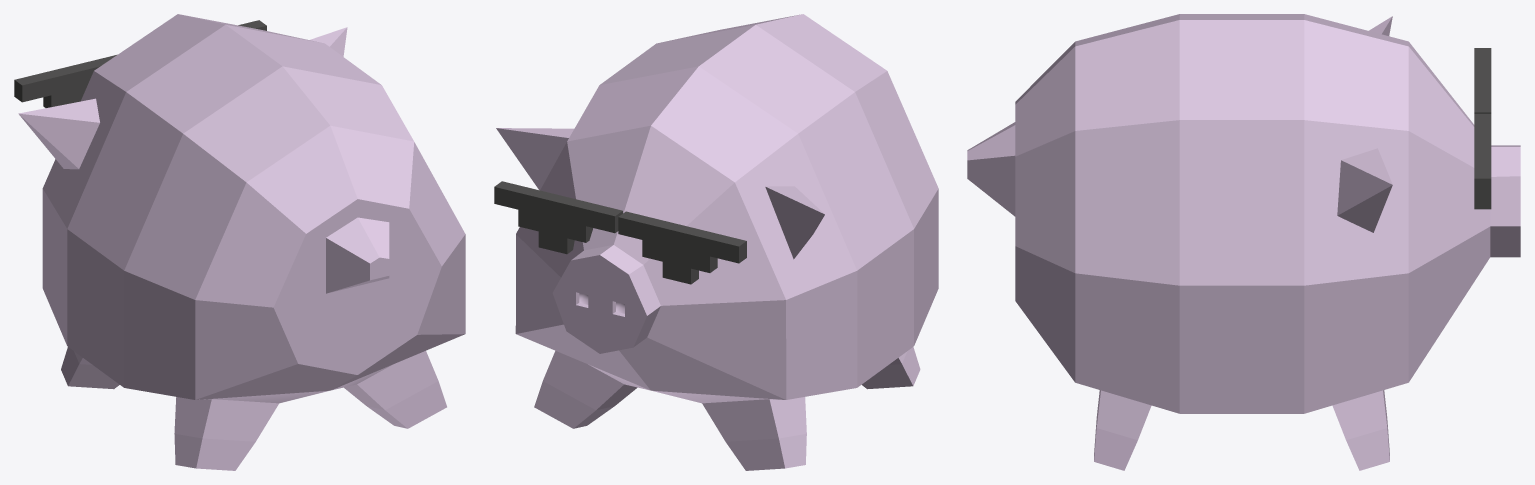
Rendered from pig.fbx.
3 views of the same model, side by side, from view 1: azimuth 30°, elevation 25°; view 2: azimuth 150°, elevation 25°; view 3: azimuth 270°, elevation 25° (orthographic). The views are drawn at different scales.
Visible parts, largest first — view 1: pig; view 2: pig; view 3: pig.
Boxes of the visible parts, left/top/right/bottom form: pig: left=14, top=14, right=465, bottom=470; pig: left=494, top=14, right=938, bottom=470; pig: left=967, top=14, right=1520, bottom=470.
Size of the model in its own units: 15.65 by 16.44 by 20.82.
